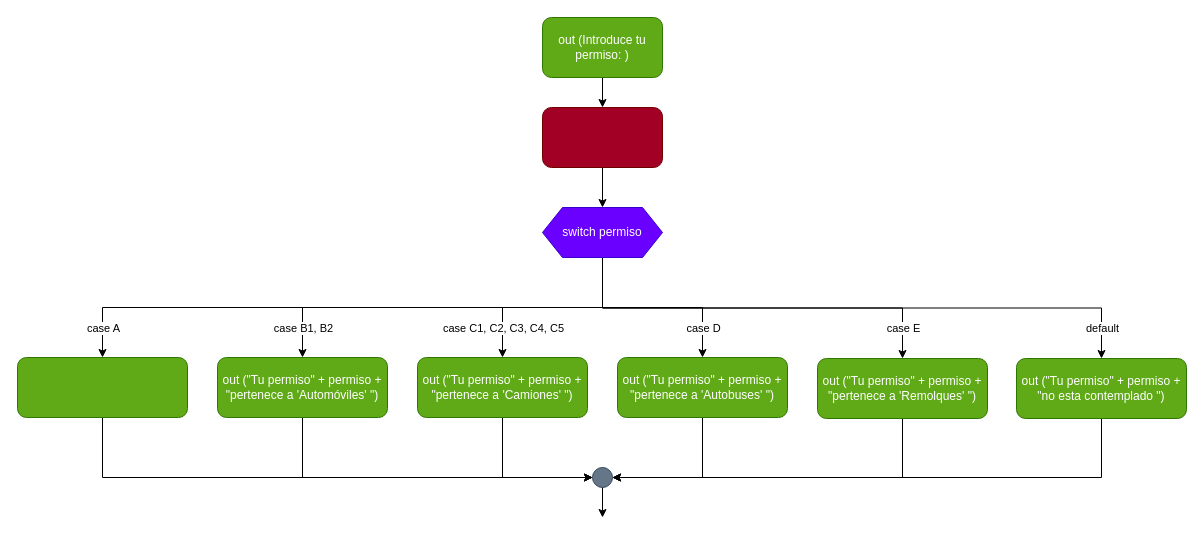
The diagram is 1204 pixels wide and 543 high, and some of its shapes have lost their labels. Each missing label, with the box of its shape:
out ("Tu permiso" + permiso + "pertenece a 'Motocicletas' "): (16, 356, 188, 418)
String permiso = read.nextLine: (542, 106, 662, 168)
